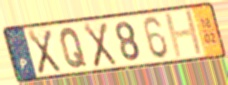6: (142, 14, 170, 62)
8: (114, 20, 142, 62)
H: (162, 8, 206, 61)
Q: (58, 26, 89, 70)
X: (81, 21, 119, 70), (26, 28, 63, 76)
